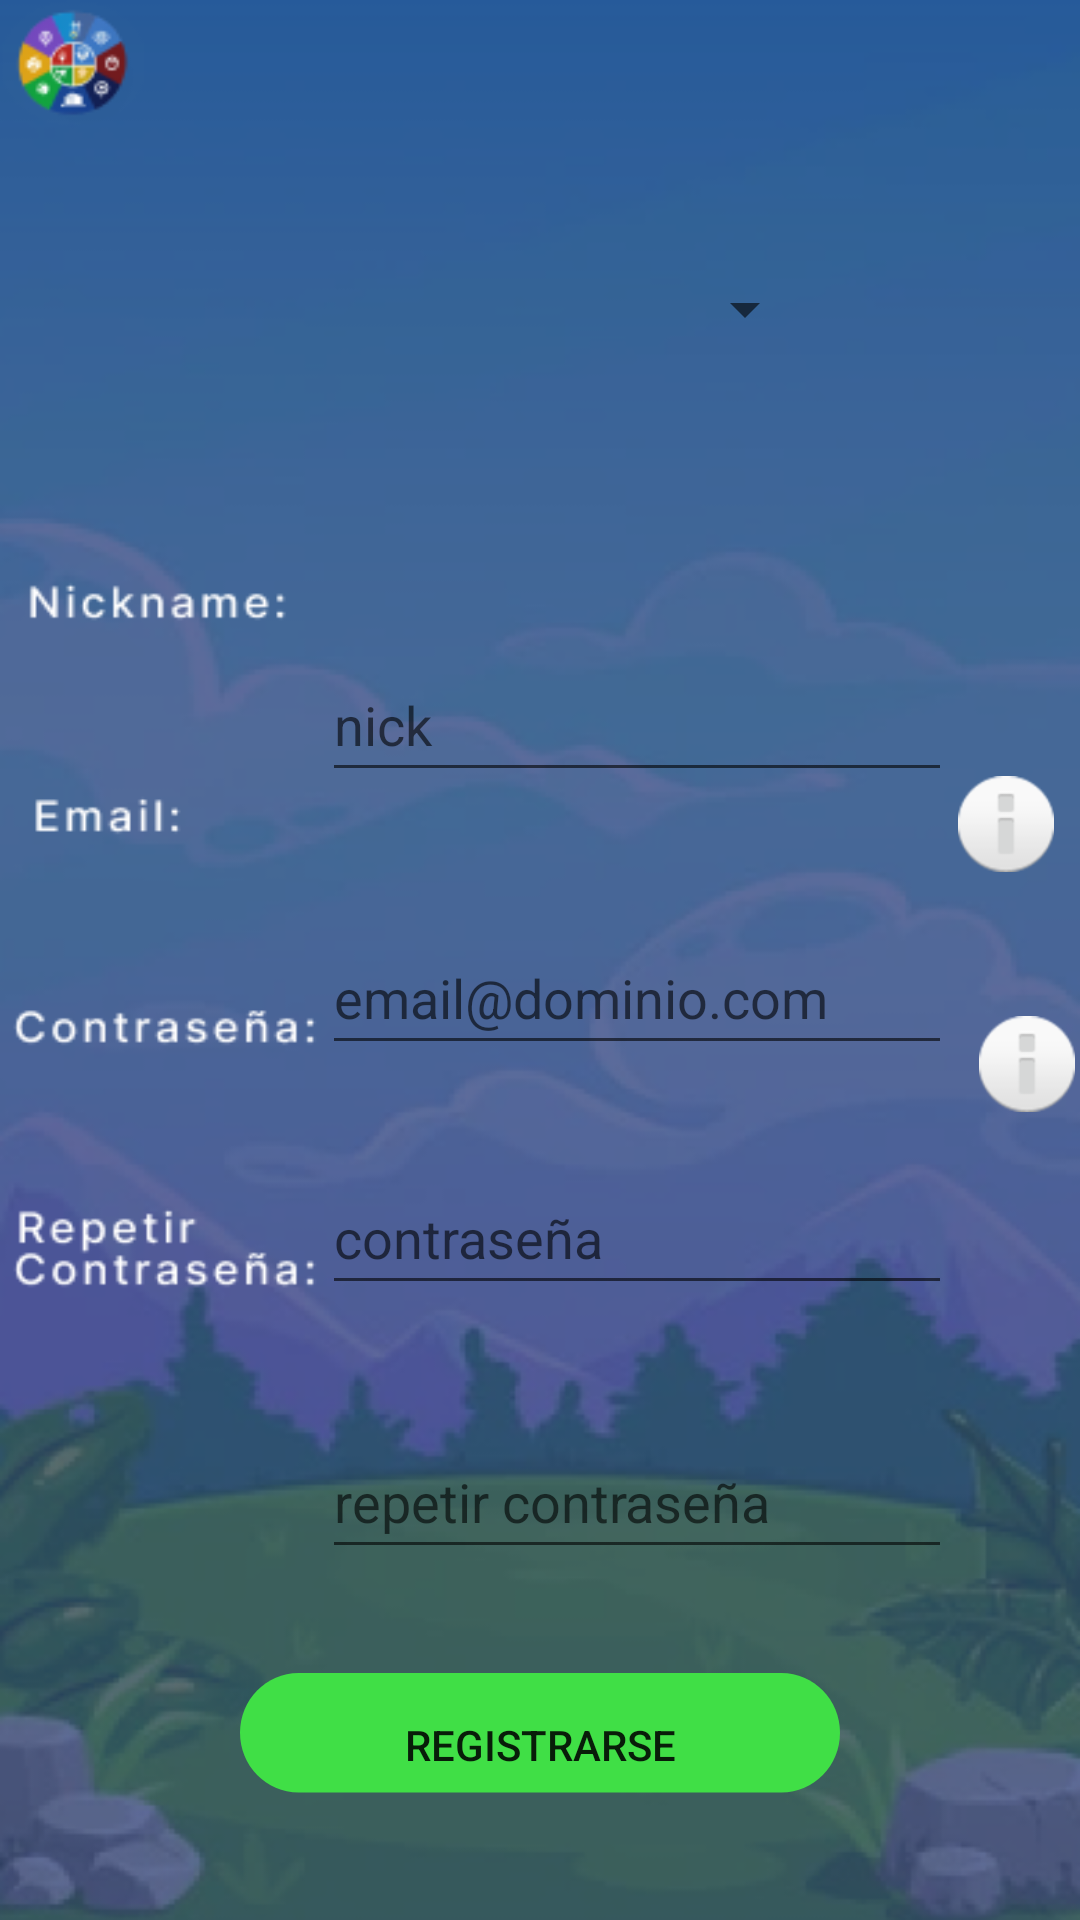

Where to tap for icons on this 1080w x 1920h app screen, as (x,y):
info: (1006,824), (1027,1064)
